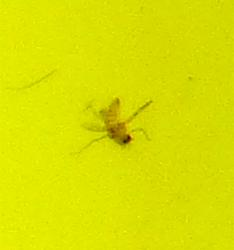Nematocera: (100, 100, 134, 150)
